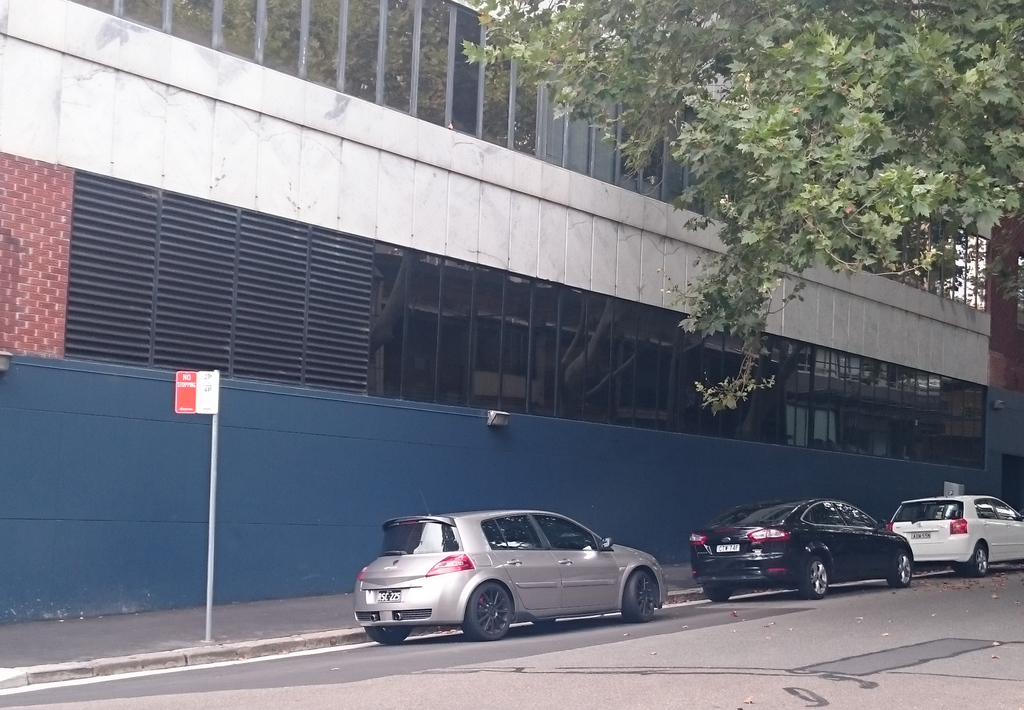Car: (353, 504, 671, 649), (684, 499, 917, 603), (887, 491, 1023, 572)
